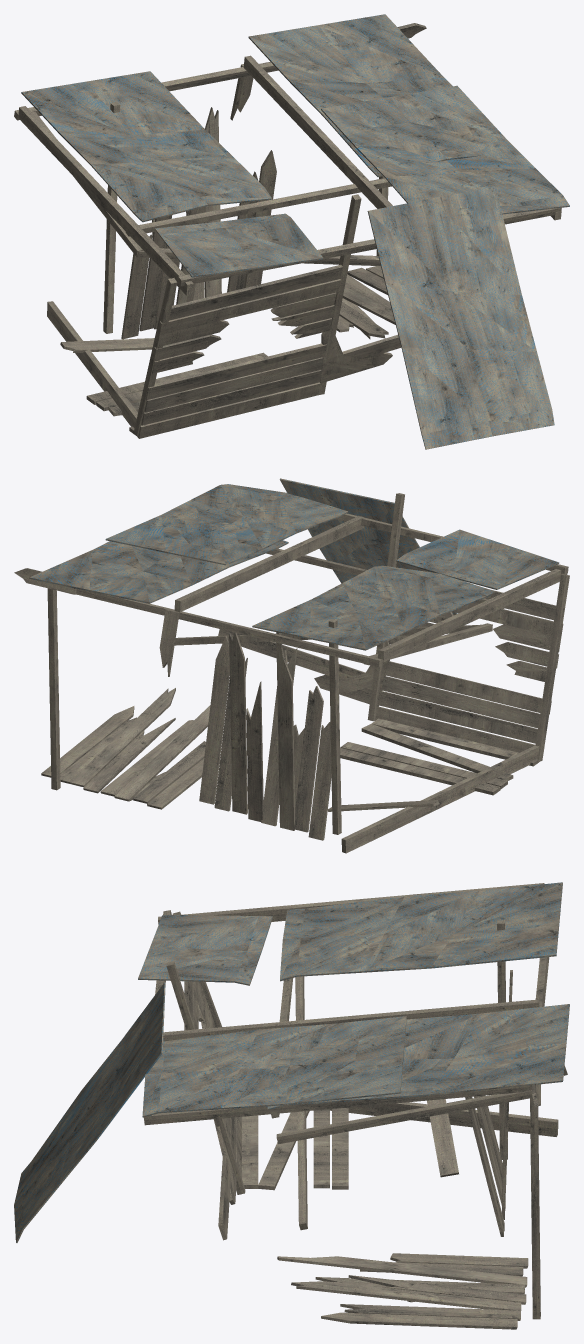
Rendered from destoyed.fbx.
3 views of the same model, one above another, from view 1: azimuth 30°, elevation 25°; view 2: azimuth 150°, elevation 25°; view 3: azimuth 270°, elevation 25° (orthographic). The views are drawn at different scales.
Visible parts, largest first — view 1: Group1; view 2: Group1; view 3: Group1.
Boxes of the visible parts, bbox=[...] form: Group1: bbox=[14, 14, 569, 449]; Group1: bbox=[14, 478, 569, 853]; Group1: bbox=[14, 882, 569, 1329].
Size of the model in its own units: 319 by 184 by 340.
